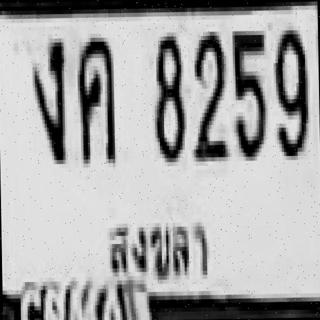A04: (76, 34, 114, 160)
A07: (30, 34, 63, 160)
N02: (190, 28, 226, 158)
N05: (230, 27, 264, 157)
N08: (151, 32, 182, 158)
N09: (272, 26, 306, 156)
P64: (104, 210, 215, 288)
